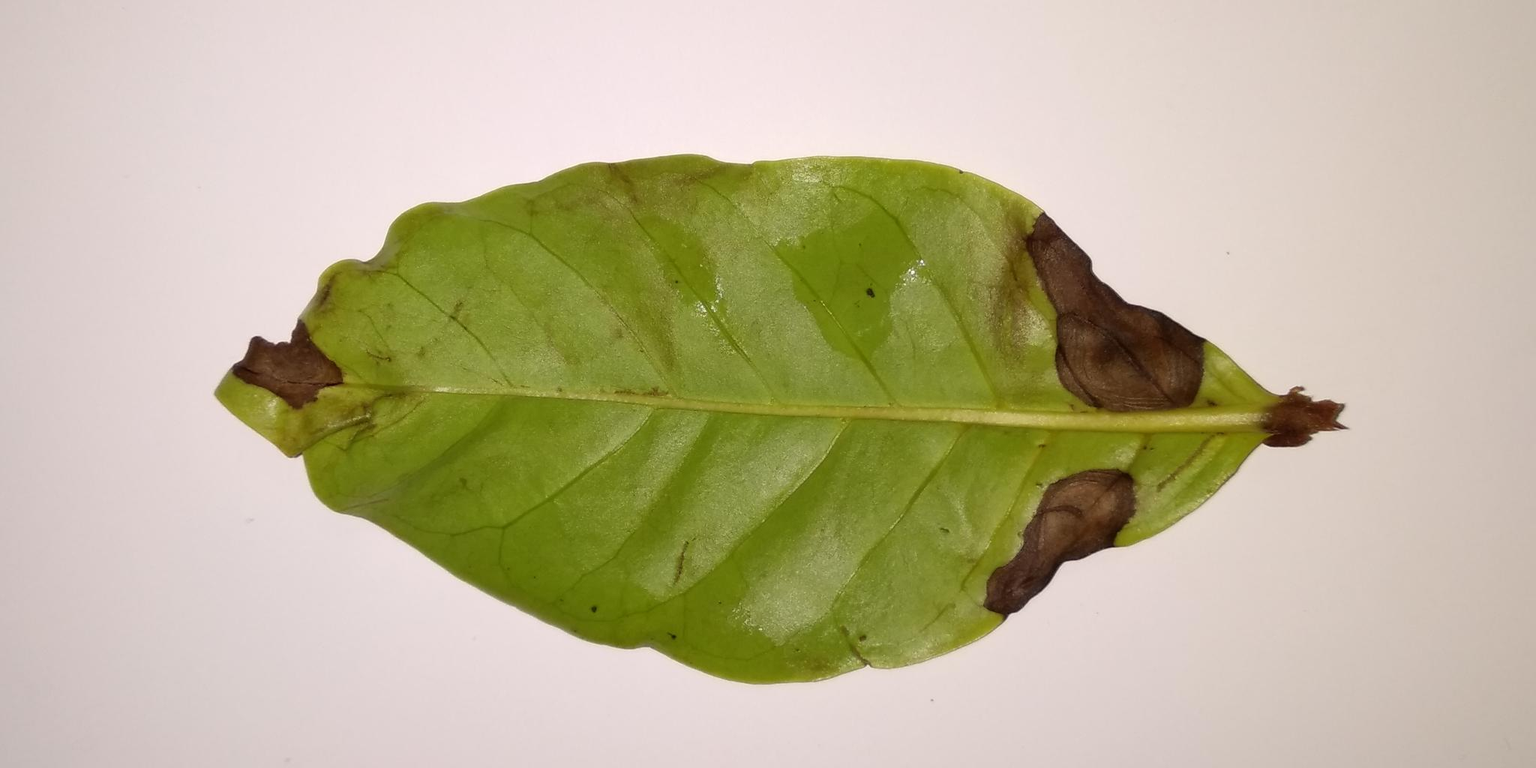Phoma: (1011, 195, 1218, 420), (977, 458, 1144, 624), (216, 304, 351, 418)
